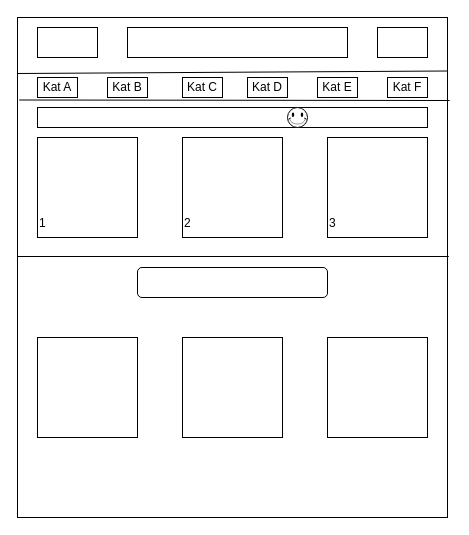
Some shapes in this 469 by 535 pixel diagram are drawn without their labels. The shapes that lost their labels are listed below. From the top down, each one's box as (x1, y1, x2, y2) in pixels, then its label:
(36, 26, 98, 58): Logo
(126, 26, 348, 58): Wyszukaj
(376, 26, 428, 58): Zaloguj się
(36, 106, 428, 128): Najpopularniejsze
(136, 266, 328, 298): Recenzje
